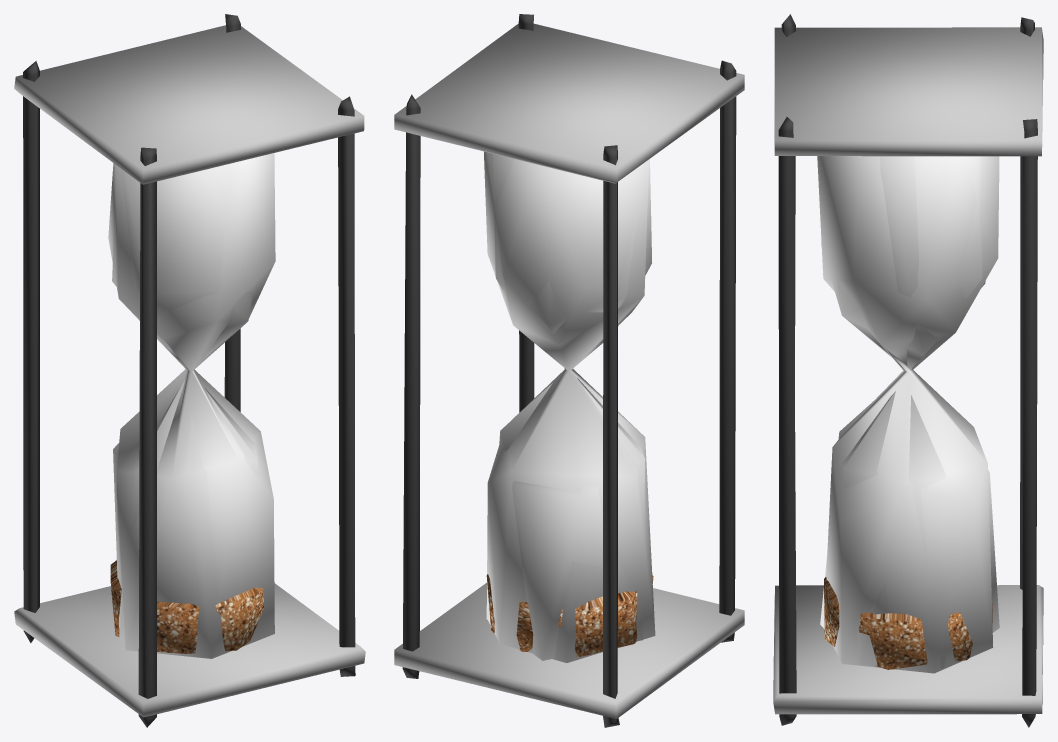
Rendered from hourglass.gltf.
3 views of the same model, side by side, from view 1: azimuth 30°, elevation 25°; view 2: azimuth 150°, elevation 25°; view 3: azimuth 270°, elevation 25° (orthographic). The views are drawn at different scales.
Parts seen in each view (by area): view 1: Sand clock; view 2: Sand clock; view 3: Sand clock.
Boxes of the visible parts, box(x1,y1,x2,y2) form: Sand clock: box(14, 14, 365, 727); Sand clock: box(394, 14, 744, 727); Sand clock: box(773, 14, 1043, 727).
Size of the model in its own units: 0.0804 by 0.1999 by 0.0808.
